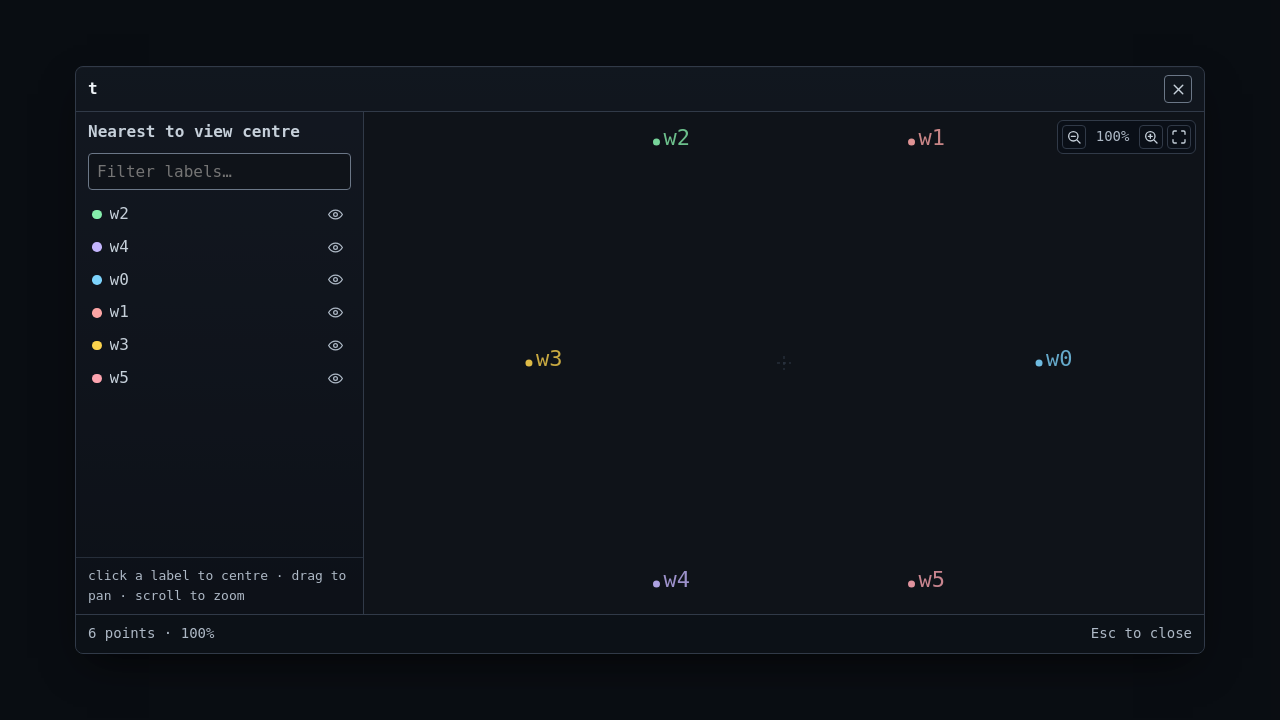
Test: ScatterModal — sidebar list › filters the list by label query and shows the empty state for no matches
Type "w3" into the field with placeholder "Filter labels…" at (220, 172), box left=88, top=153, right=351, bottom=190
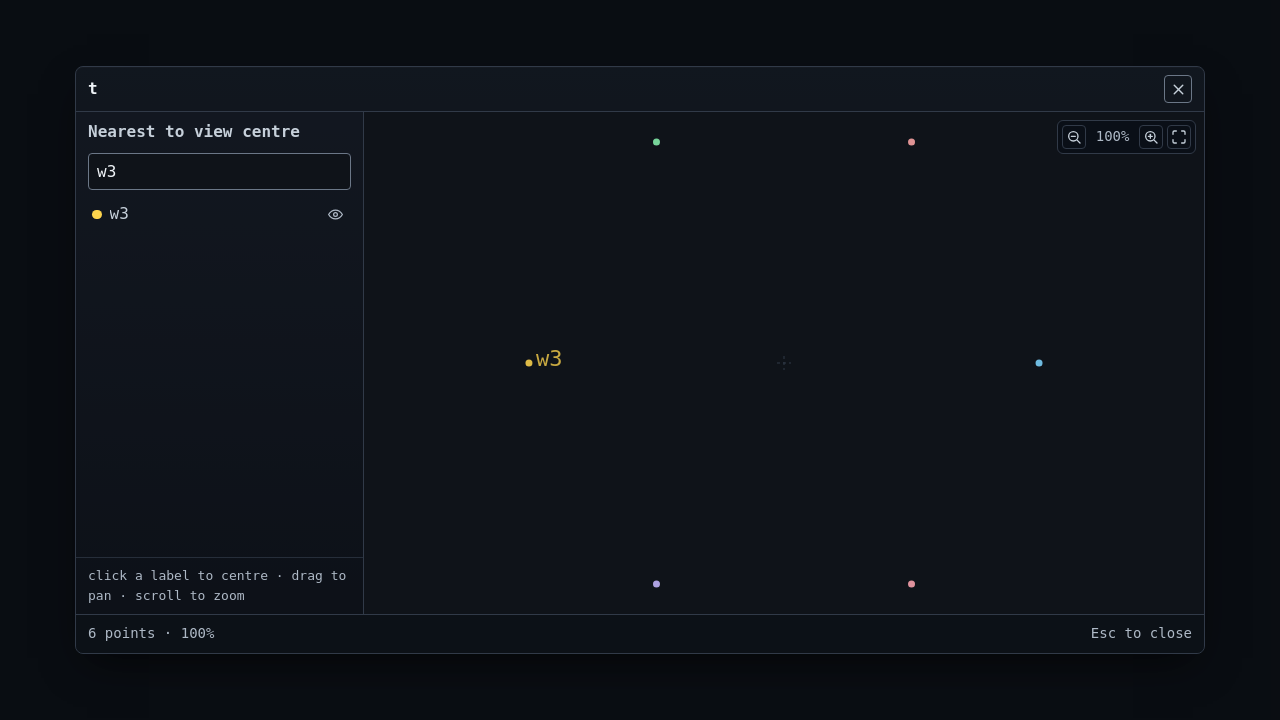
Expected: the text "w3" is shown, left=110, top=204, right=129, bottom=223
Expected: the text "w0" is gone
Replace the text in the field with placeholder "Filter labels…" with "zzz" at (220, 172), box left=88, top=153, right=351, bottom=190
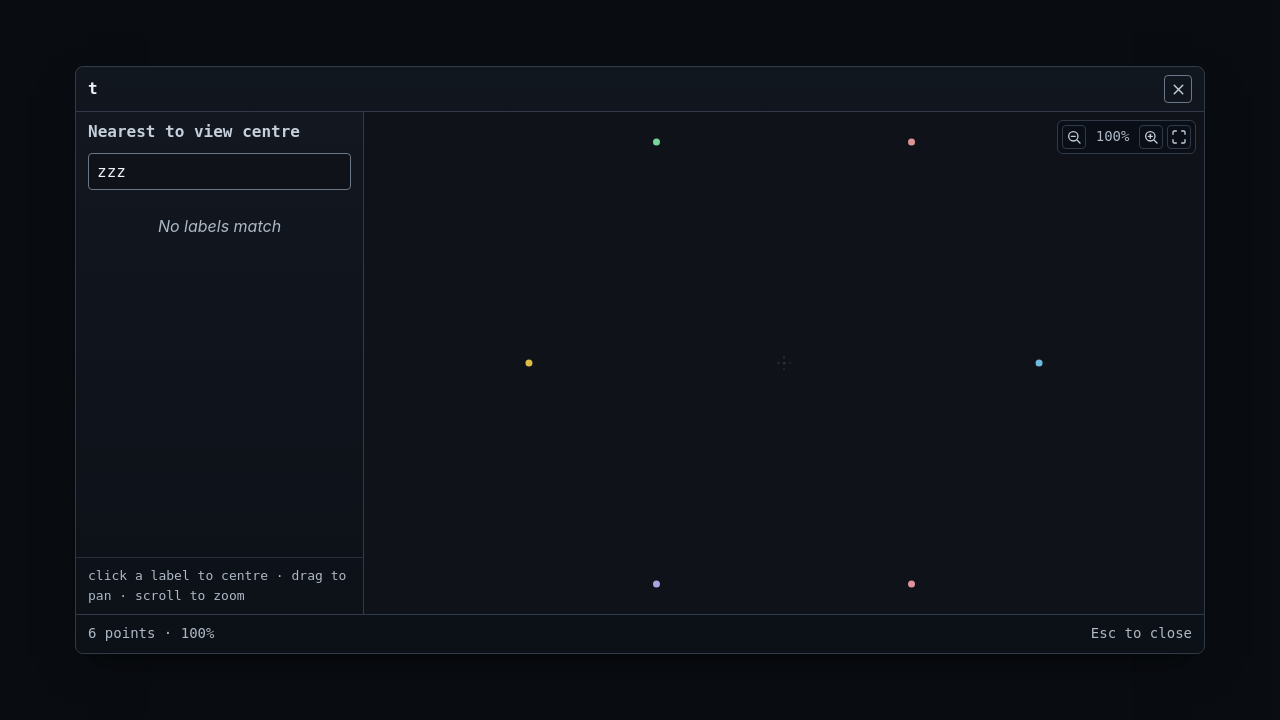
Expected: the text "No labels match" is shown, left=158, top=216, right=281, bottom=236
